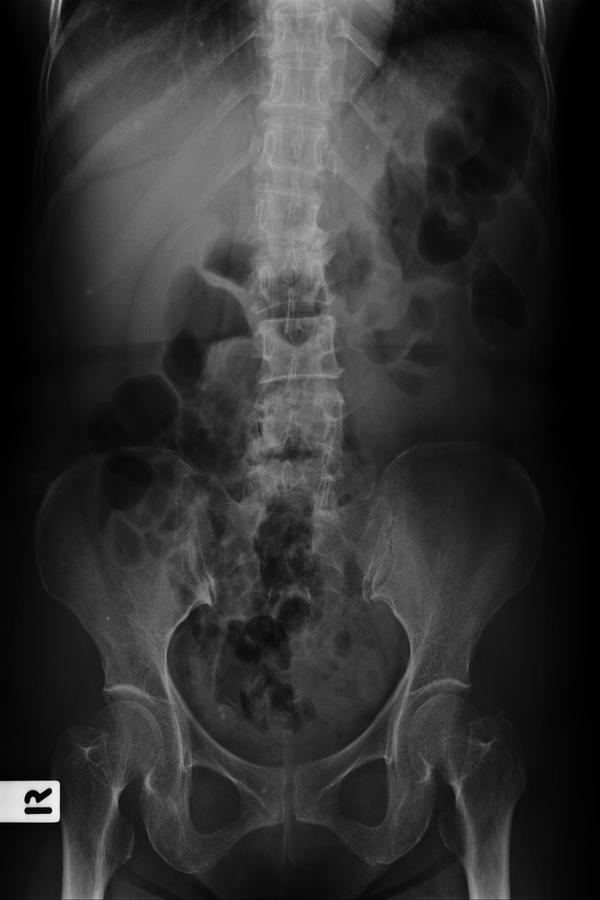lumbar scoliosis: (240, 8, 348, 526)
